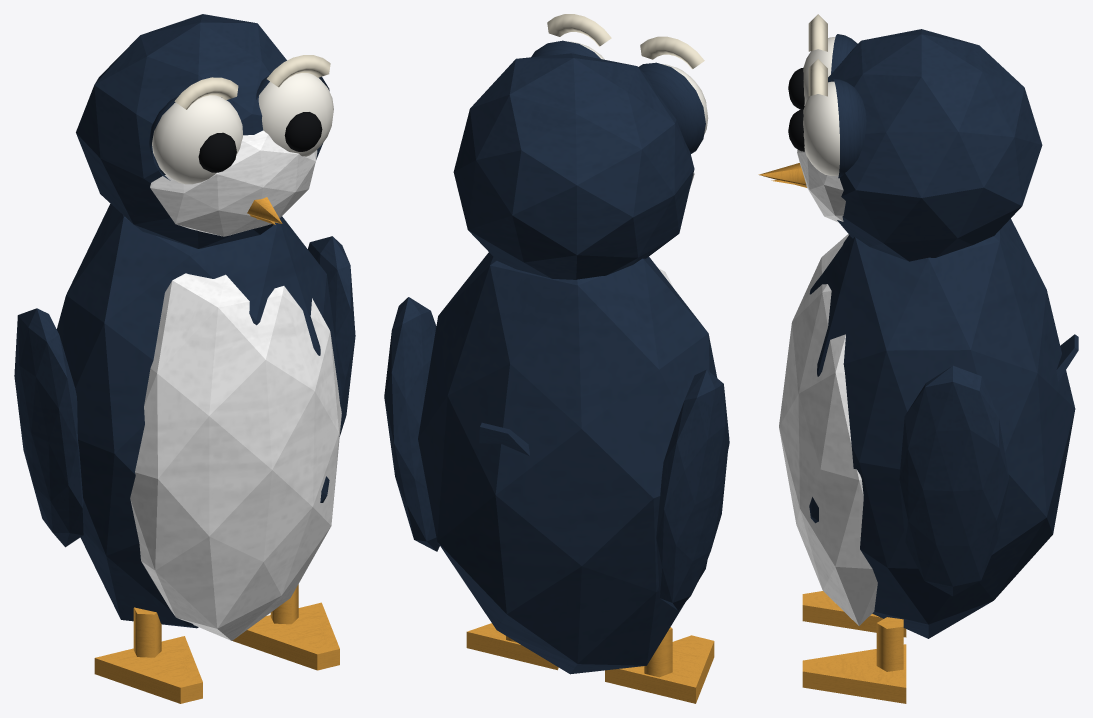
File: penguin.glb
3 views of the same model, side by side, from view 1: azimuth 30°, elevation 25°; view 2: azimuth 150°, elevation 25°; view 3: azimuth 270°, elevation 25° (orthographic).
Visible parts, largest first — view 1: body, head, wingR, footR, footL, wingL, hipR, hipL; view 2: body, head, wingR, wingL, footR, footL, tail, hipR; view 3: body, head, wingL, footL, footR, hipL, tail.
Boxes of the visible parts, <box> form: body: <box>56,203,342,640</box>; head: <box>76,14,333,248</box>; wingR: <box>14,308,84,547</box>; footR: <box>94,636,202,703</box>; footL: <box>232,602,339,670</box>; wingL: <box>308,236,355,436</box>; hipR: <box>133,607,161,657</box>; hipL: <box>270,584,298,624</box>; body: <box>418,252,729,674</box>; head: <box>453,14,708,279</box>; wingR: <box>656,369,729,610</box>; wingL: <box>384,297,439,551</box>; footR: <box>605,635,714,703</box>; footL: <box>466,623,558,670</box>; tail: <box>479,422,529,455</box>; hipR: <box>644,627,672,677</box>; body: <box>779,218,1075,638</box>; head: <box>758,14,1042,261</box>; wingL: <box>899,365,1009,596</box>; footL: <box>802,644,906,703</box>; footR: <box>802,591,906,637</box>; hipL: <box>876,617,903,671</box>; tail: <box>1056,334,1078,381</box>.
Bounding box in the file's own units: 0.3911 × 0.7334 × 0.3465.
Materials: 13 (10 with a texture image).
